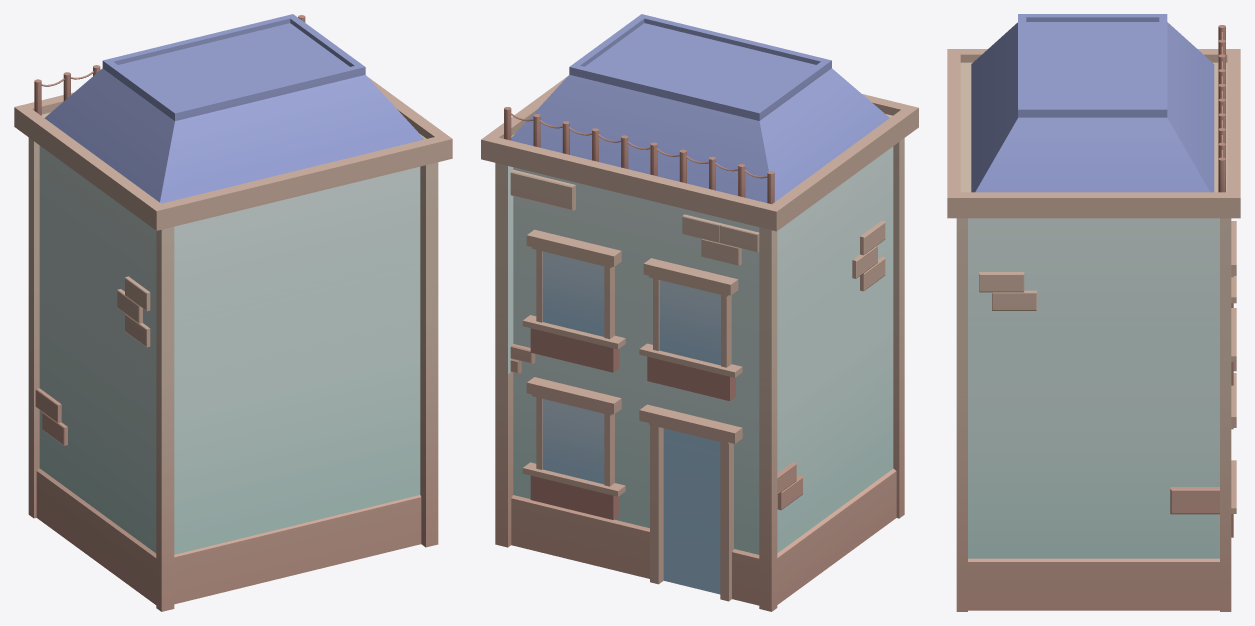
File: Gebäude_11.glb
3 views of the same model, side by side, from view 1: azimuth 30°, elevation 25°; view 2: azimuth 150°, elevation 25°; view 3: azimuth 270°, elevation 25° (orthographic). The views are drawn at different scales.
Parts seen in each view (by area): view 1: Box.410; view 2: Box.410; view 3: Box.410.
Part boxes in pixels (left/top/right/bottom): Box.410: left=14, top=14, right=452, bottom=611; Box.410: left=481, top=14, right=918, bottom=611; Box.410: left=947, top=14, right=1240, bottom=611.
Size of the model in its own units: 3.95 by 5.94 by 3.29.
Materials: 1 (1 with a texture image).
